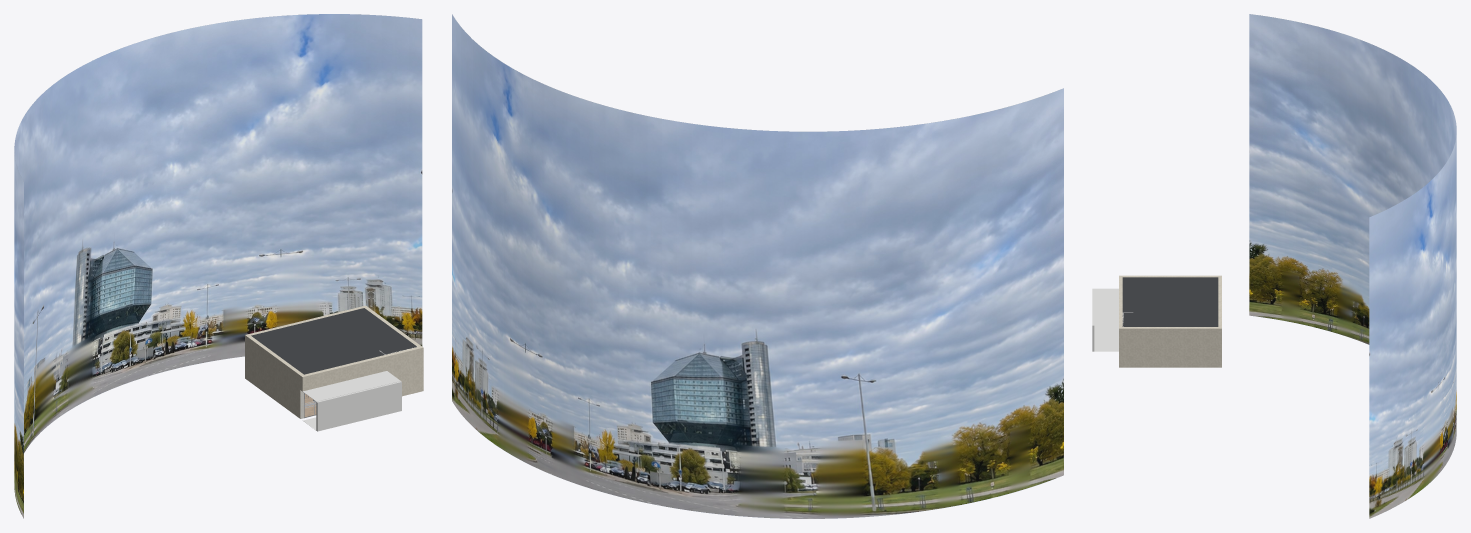
File: arka123.glb
The picture shows the model from 3 angles, left to right: view 1: azimuth 30°, elevation 25°; view 2: azimuth 150°, elevation 25°; view 3: azimuth 270°, elevation 25°; orthographic projection. The views are drawn at different scales.
Parts seen in each view (by area): view 1: ViewLibrary, CeilingStructure, Walls, Corridor; view 2: ViewLibrary; view 3: ViewLibrary, CeilingStructure, Walls, Corridor.
Boxes of the visible parts, left/top/right/bottom form: ViewLibrary: left=14, top=14, right=422, bottom=518; CeilingStructure: left=251, top=308, right=416, bottom=401; Walls: left=247, top=307, right=423, bottom=418; Corridor: left=302, top=371, right=401, bottom=431; ViewLibrary: left=452, top=14, right=1063, bottom=518; ViewLibrary: left=1249, top=14, right=1456, bottom=518; CeilingStructure: left=1122, top=277, right=1218, bottom=326; Walls: left=1119, top=275, right=1218, bottom=367; Corridor: left=1092, top=288, right=1118, bottom=351.
Size of the model in its own units: 50.42 by 34.88 by 38.2.
Materials: 16 (3 with a texture image).
